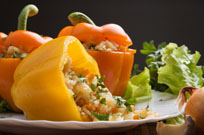capsicum: (11, 37, 112, 126), (58, 13, 135, 99), (0, 4, 60, 105)
